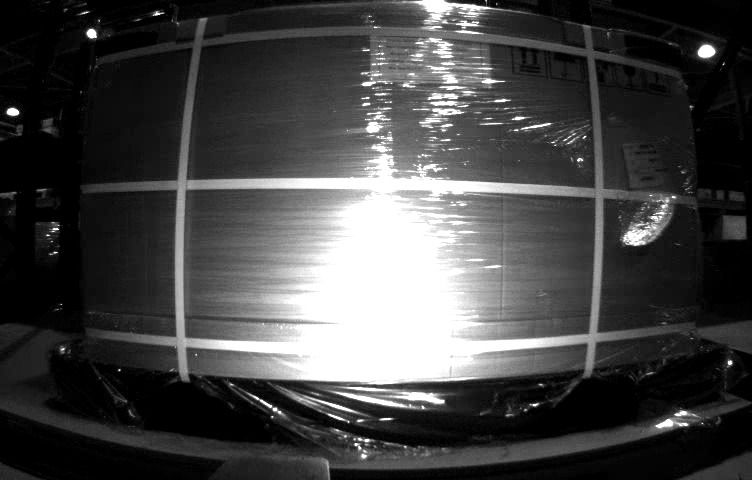True Barcode: (623, 138, 667, 189)
